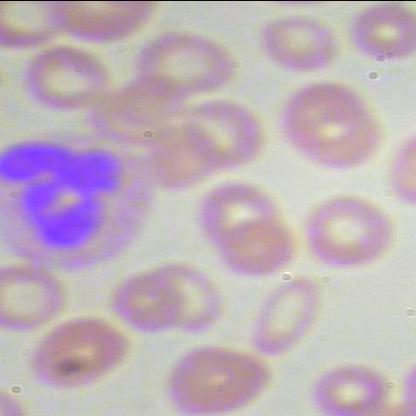RBC: (23, 312, 133, 392), (164, 338, 276, 416), (165, 91, 267, 176), (240, 268, 330, 358), (302, 189, 393, 270), (16, 44, 113, 110), (280, 76, 362, 152), (218, 212, 300, 278), (256, 13, 338, 78), (299, 360, 389, 416), (0, 260, 68, 332), (342, 1, 415, 63)
